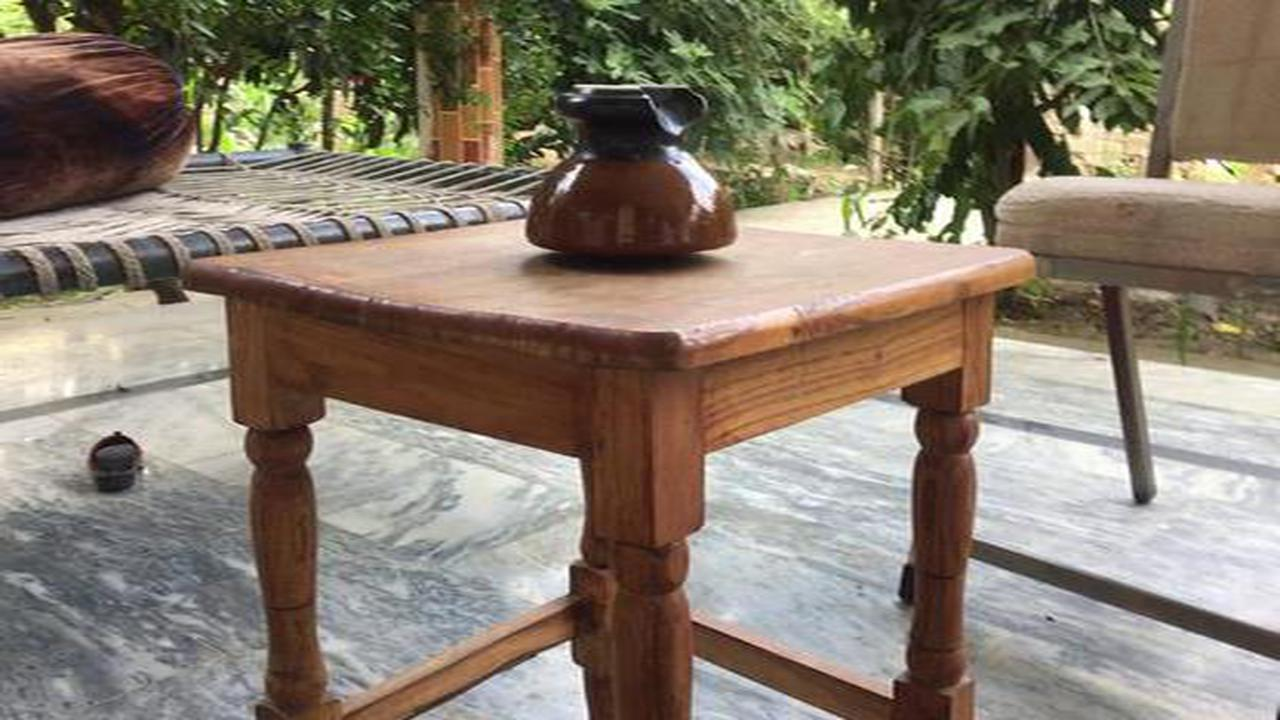insulator_pin: (505, 62, 764, 281)
